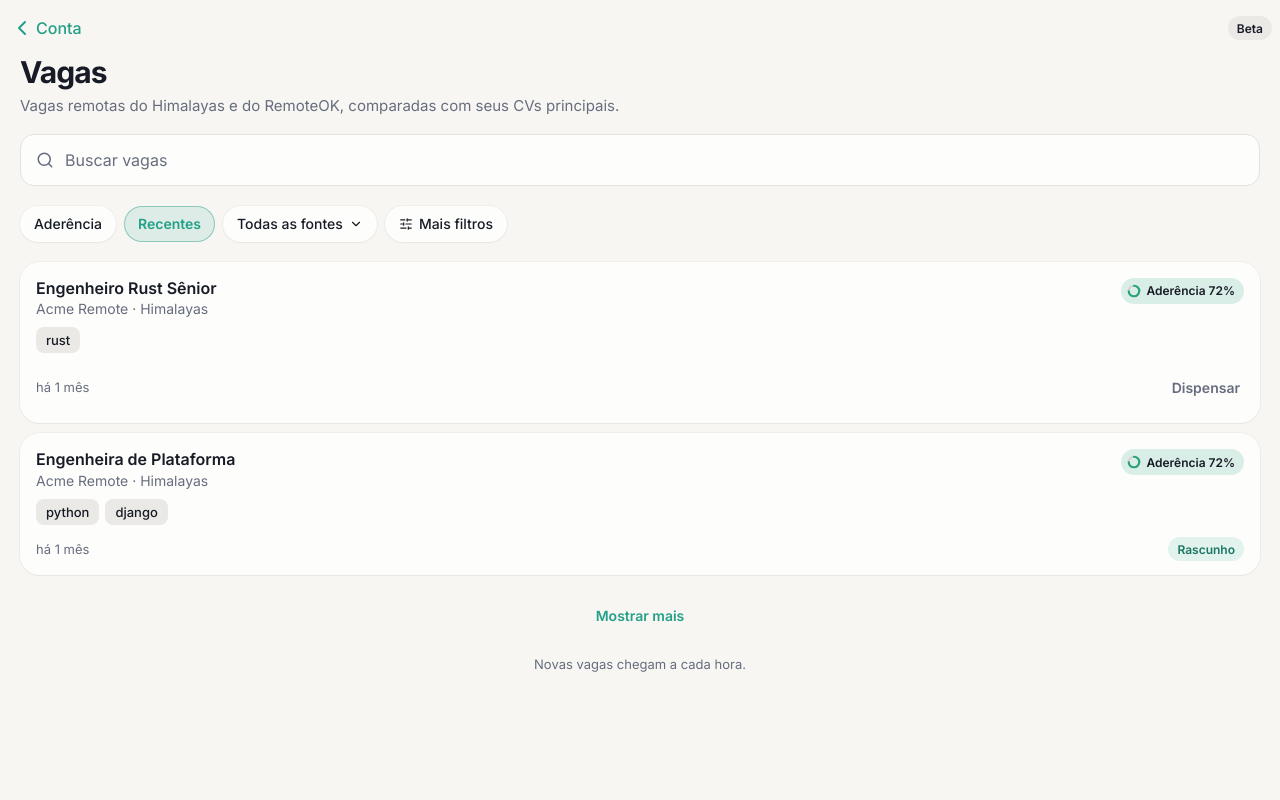
the job, CV and draft boards in Portuguese below md › Jobs
Check: the heading "Vagas" is shown, box [20,54,107,90]
Check: the link "Conta" is shown, box [10,16,82,40]
Click the button "Mais filtros" at (446, 224), box [385,202,507,246]
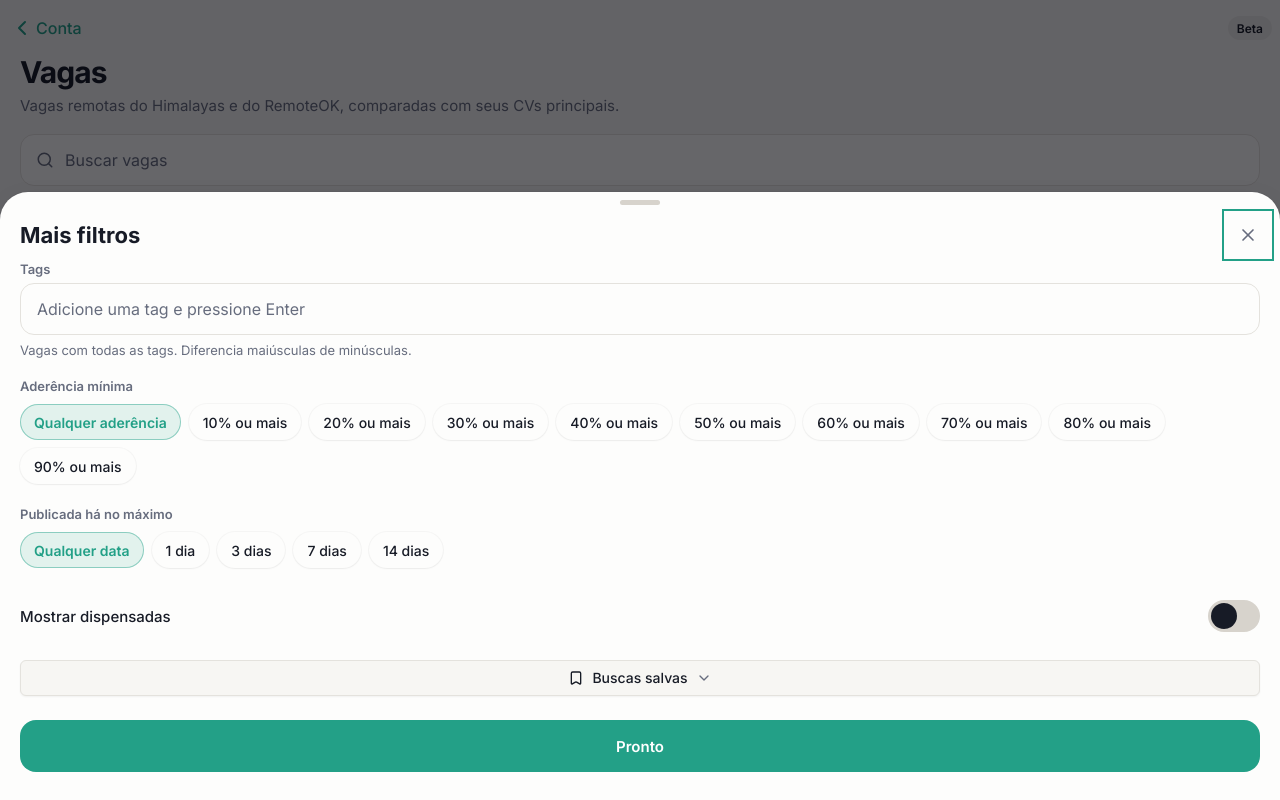
Check: the button "Pronto" is shown, box [20,720,1260,772]
